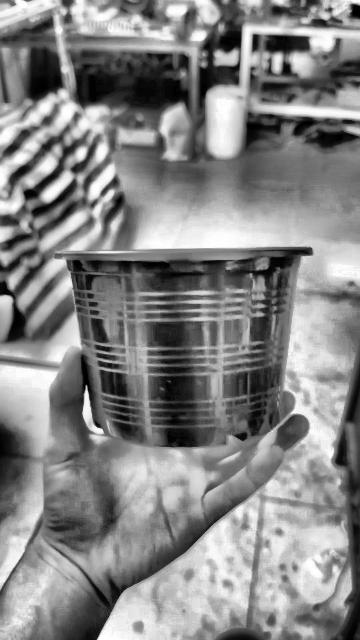pot: (56, 247, 311, 447)
